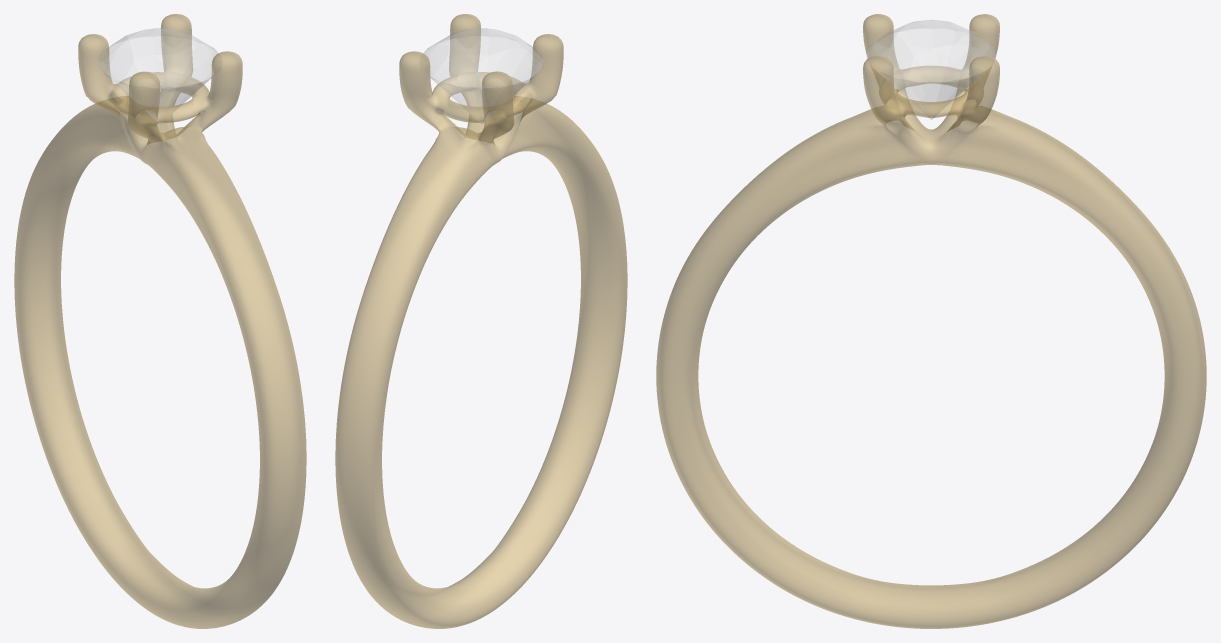
3 views of the same model, side by side, from view 1: azimuth 30°, elevation 25°; view 2: azimuth 150°, elevation 25°; view 3: azimuth 270°, elevation 25° (orthographic). The views are drawn at different scales.
Visible parts, largest first — view 1: VR006; view 2: VR006; view 3: VR006.
Part boxes in pixels (x1=…): VR006: x1=14, y1=14, x2=306, y2=628; VR006: x1=335, y1=14, x2=627, y2=628; VR006: x1=656, y1=14, x2=1206, y2=628.
Size of the model in its own units: 0.5543 by 2.75 by 2.32.
